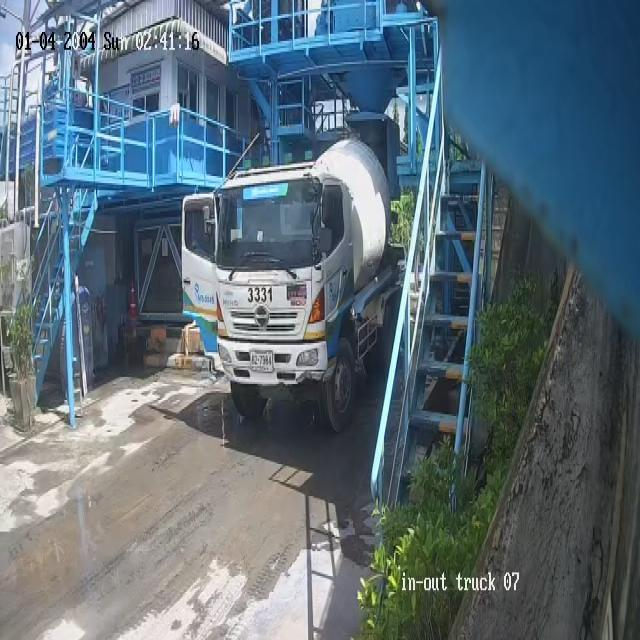cement_mixer_truck: (182, 133, 405, 432)
